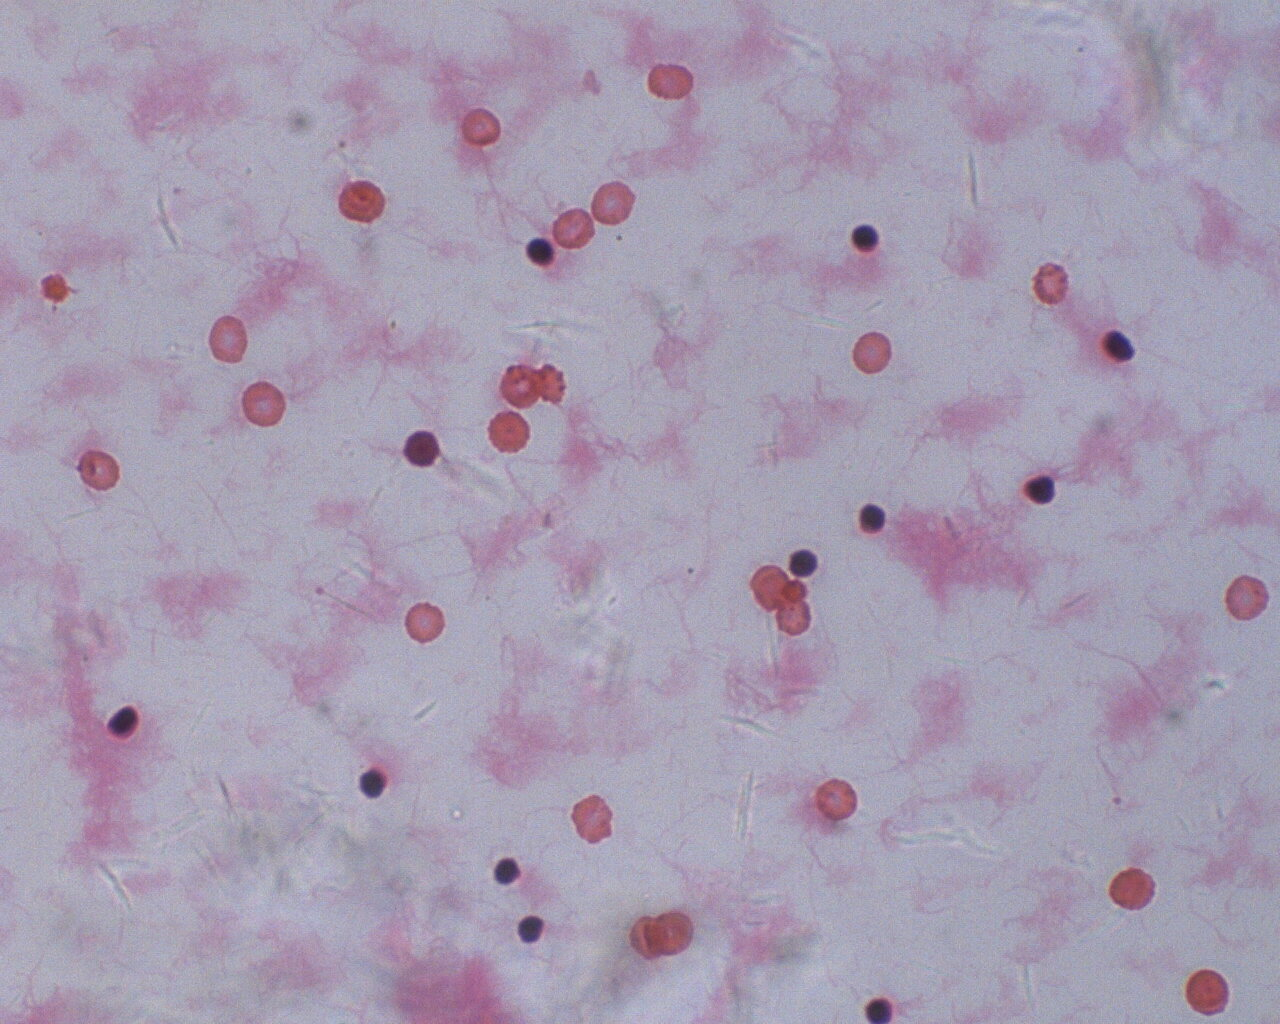lymph: (852, 498, 891, 540), (102, 703, 145, 741), (844, 216, 884, 256), (786, 543, 823, 584), (1020, 472, 1061, 508), (519, 237, 563, 270), (491, 852, 528, 887), (518, 906, 549, 949)
